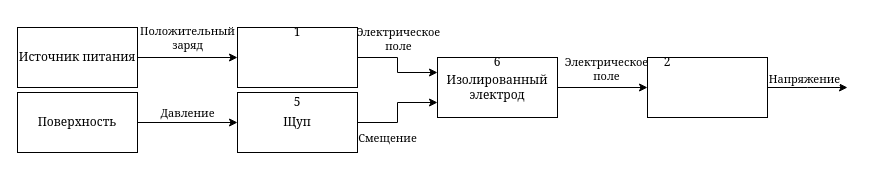
The diagram is 873 pixels wide and 170 high, and some of its shapes have lost their labels. Here are the shapes that lost their labels. From the top down, the box of each, then its label:
(236, 26, 358, 88): Потенциальный электрод
(646, 56, 768, 118): Измеряющий электрод
